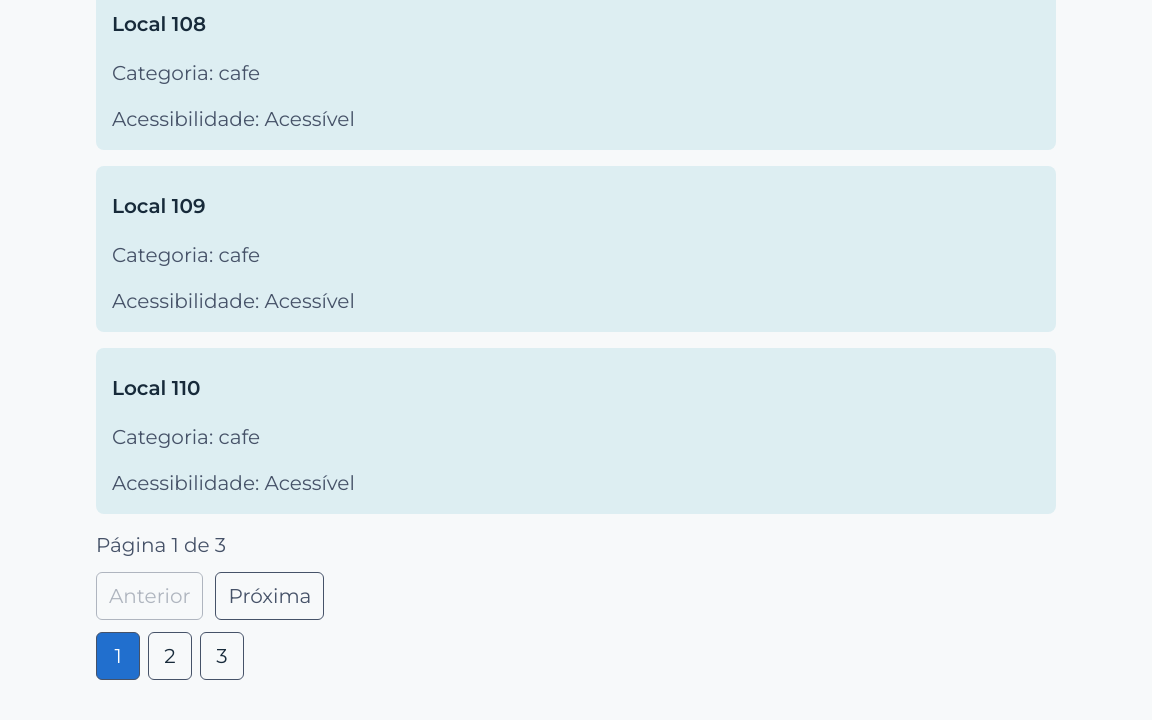
Test: Integração da paginação de locais › ajusta para a última página disponível quando um filtro reduz a lista
(page scrolled)
Click the button "3" at x=222, y=656, box [200,632,244,680]
(page scrolled)
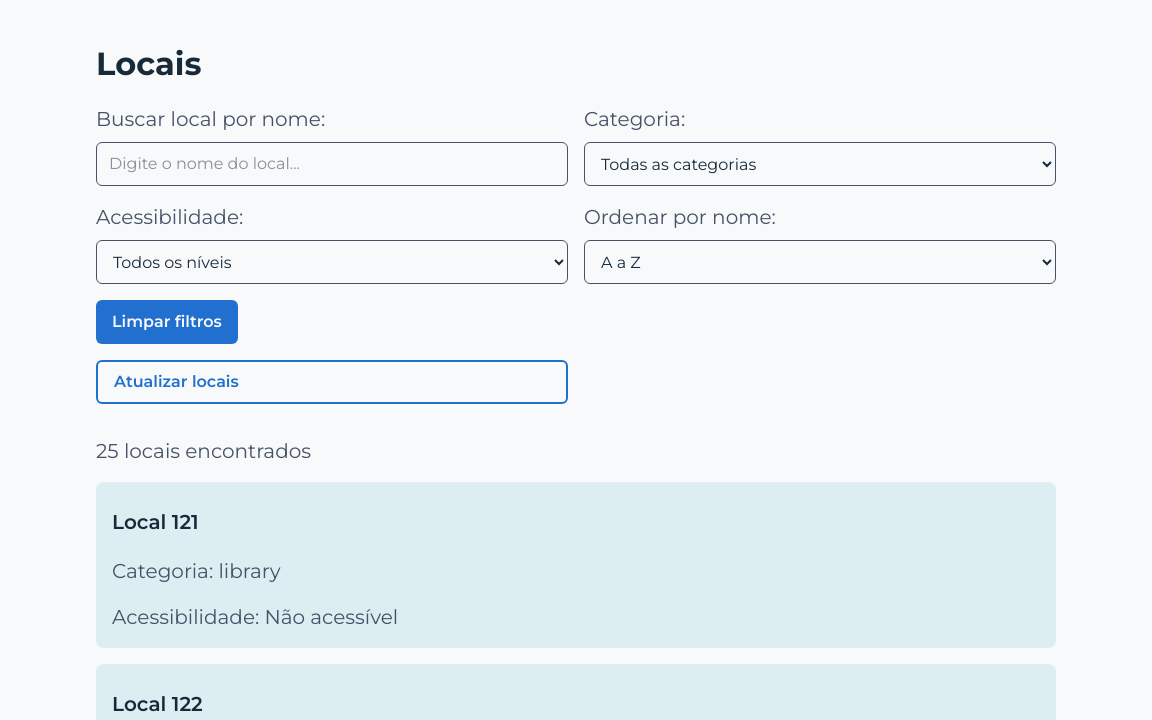
Select "cafe" in the dropdown labelled "Categoria:" at x=820, y=164, box [584,142,1056,186]
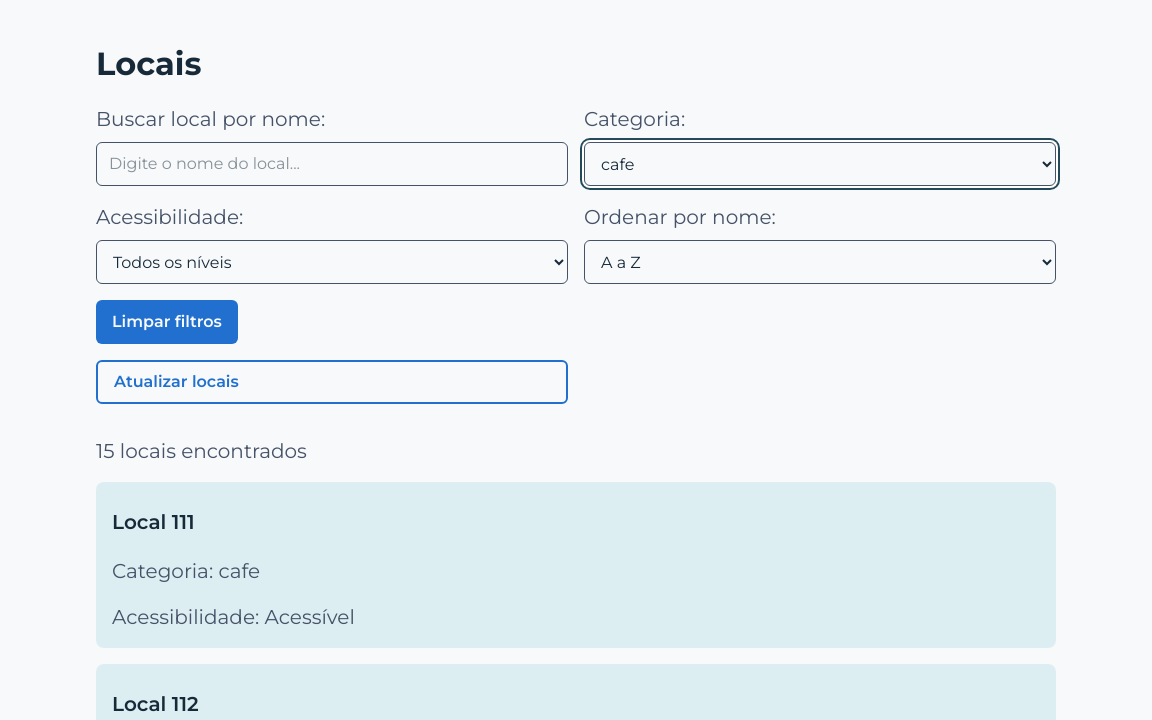
Now the message reads "15 locais encontrados", box [96,439,307,463]
